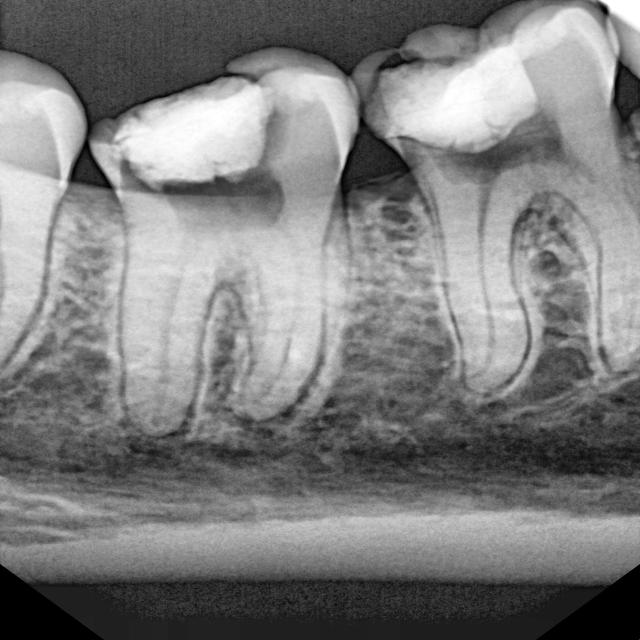Restoration: (86, 50, 307, 245), (348, 26, 580, 186)
